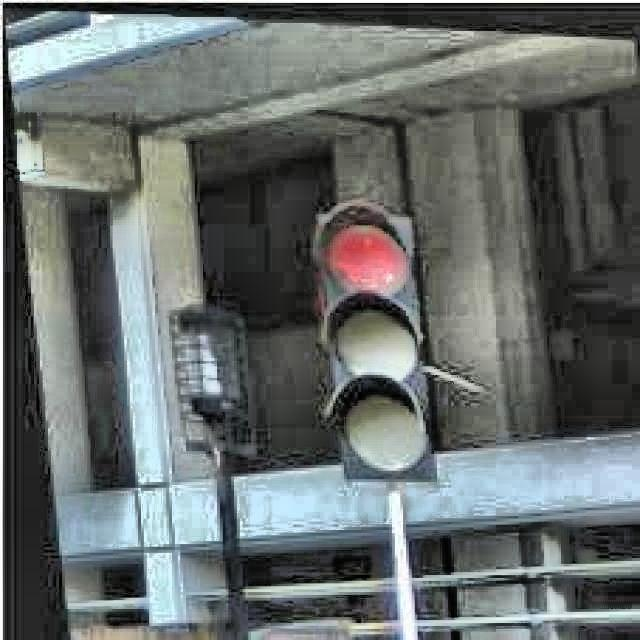red: (324, 205, 449, 484)
